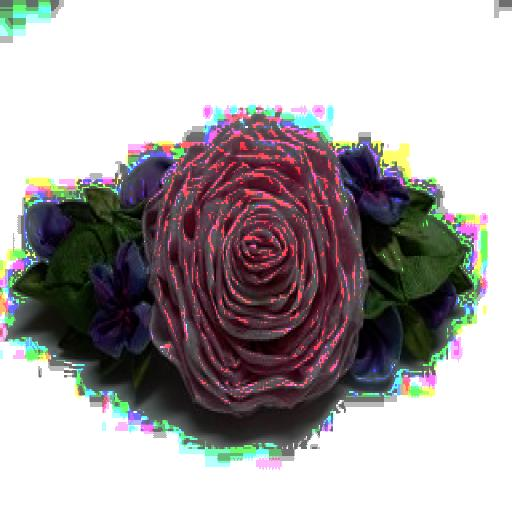rose: (144, 112, 370, 416)
